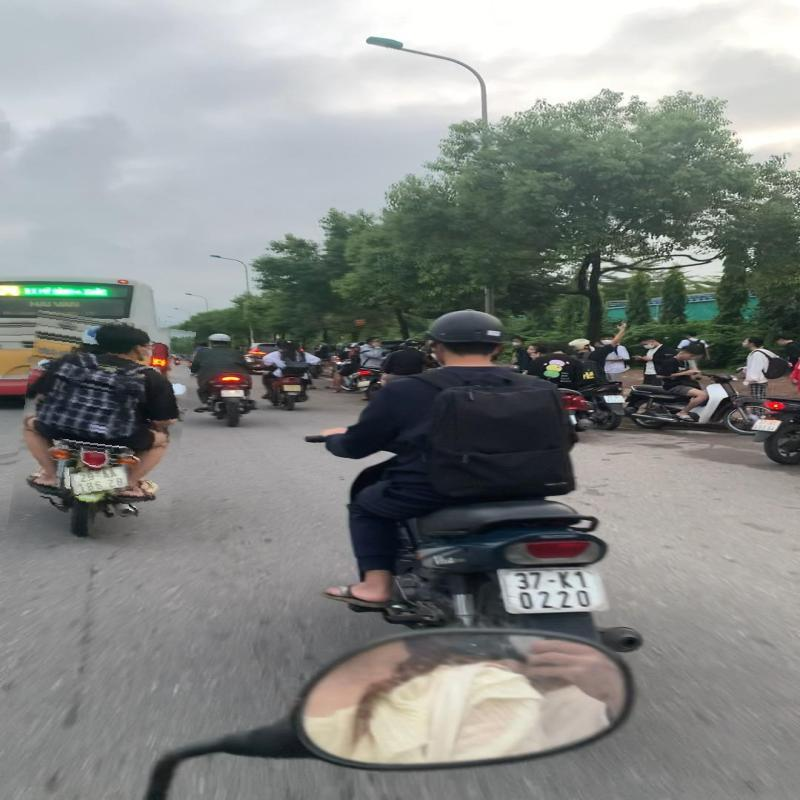licenseplate: (69, 465, 133, 495)
motorcyclist: (15, 315, 190, 547)
nohelmet: (79, 319, 144, 361)
